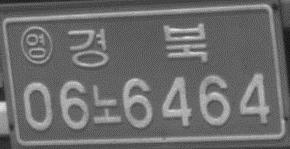0: (23, 81, 53, 131)
4: (239, 73, 273, 125), (161, 75, 194, 126)
6: (199, 73, 232, 126), (121, 77, 153, 128), (60, 79, 89, 130)
경북_D: (66, 21, 209, 70)
노: (90, 83, 123, 124)
영: (20, 24, 55, 65)
